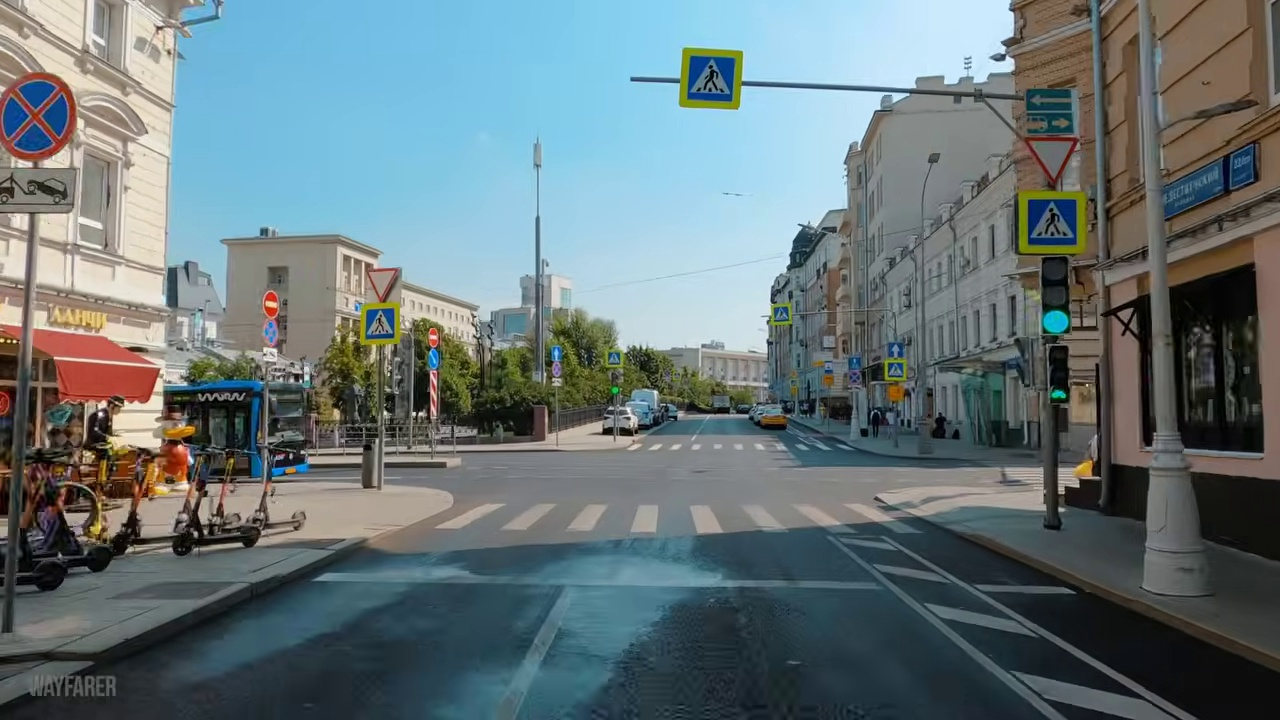apagada: (923, 141, 946, 176)
